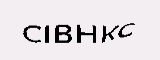І: (44, 21, 53, 49)
